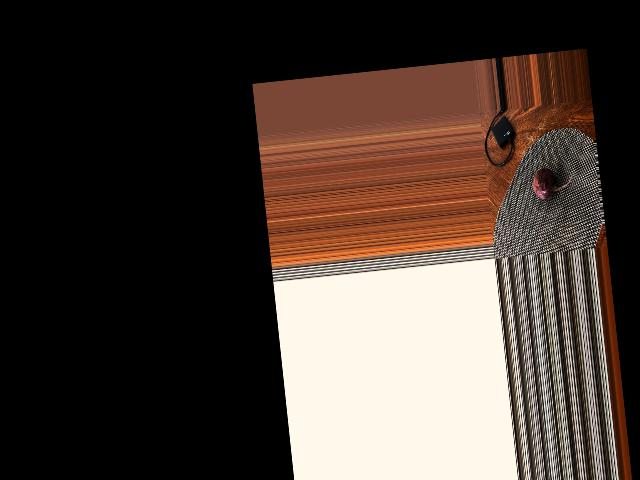beet: (531, 165, 575, 200)
